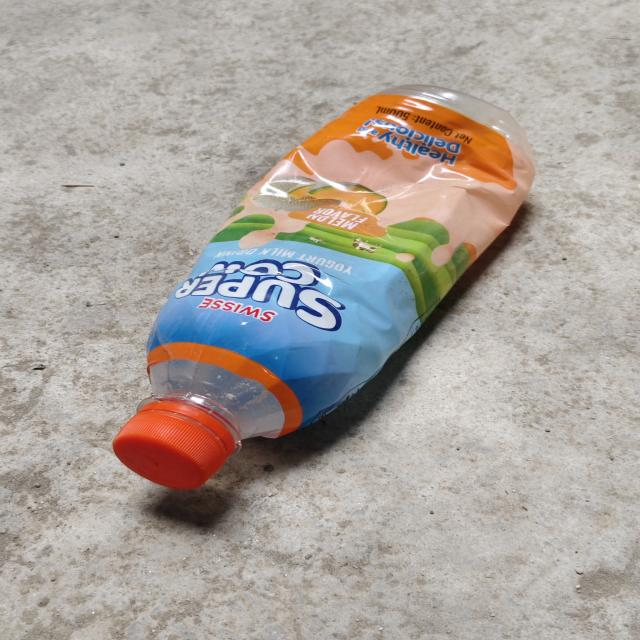Bottle: (114, 85, 534, 489)
